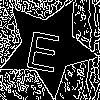E: (23, 22, 65, 73)
